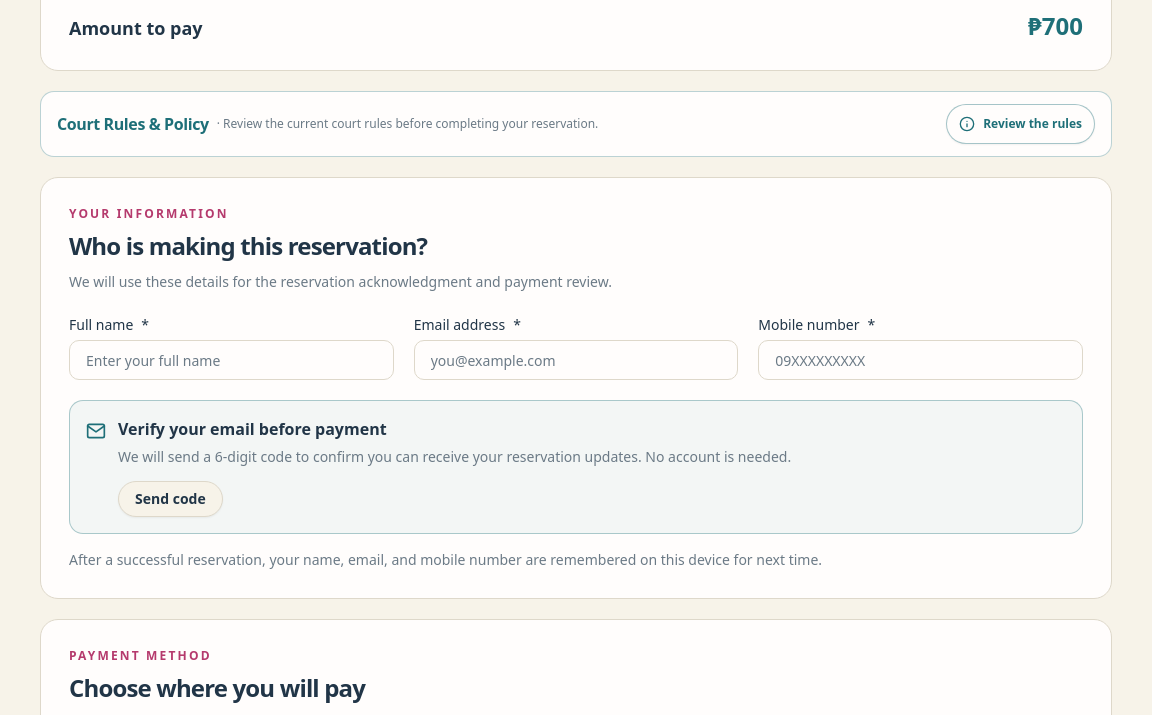
Test: ReservationCheckout › honors the server wait after delivery fails so retrying does not immediately hit the resend limit
The image size is (1152, 715).
(page scrolled)
Step 1. Type "mark@example.com" into the field labelled "Email address" → point(576, 360), box [414,340,738,380]
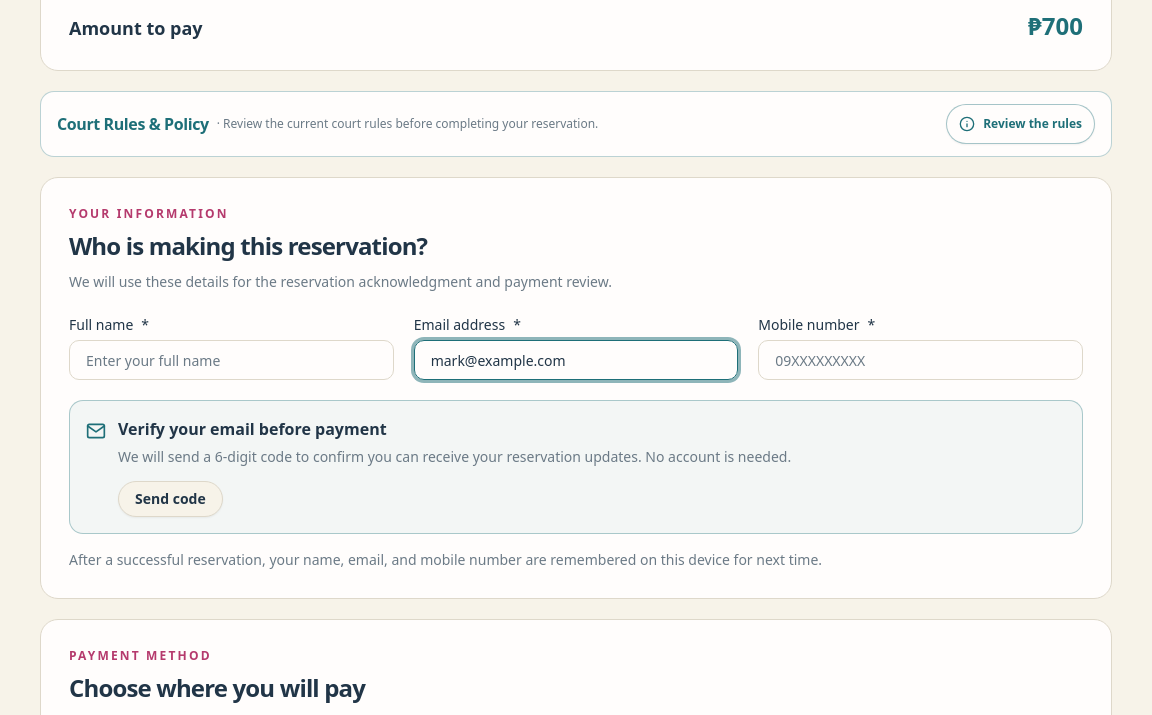
Step 2. Click the button "Send code" → point(170, 499), box [118,481,223,517]
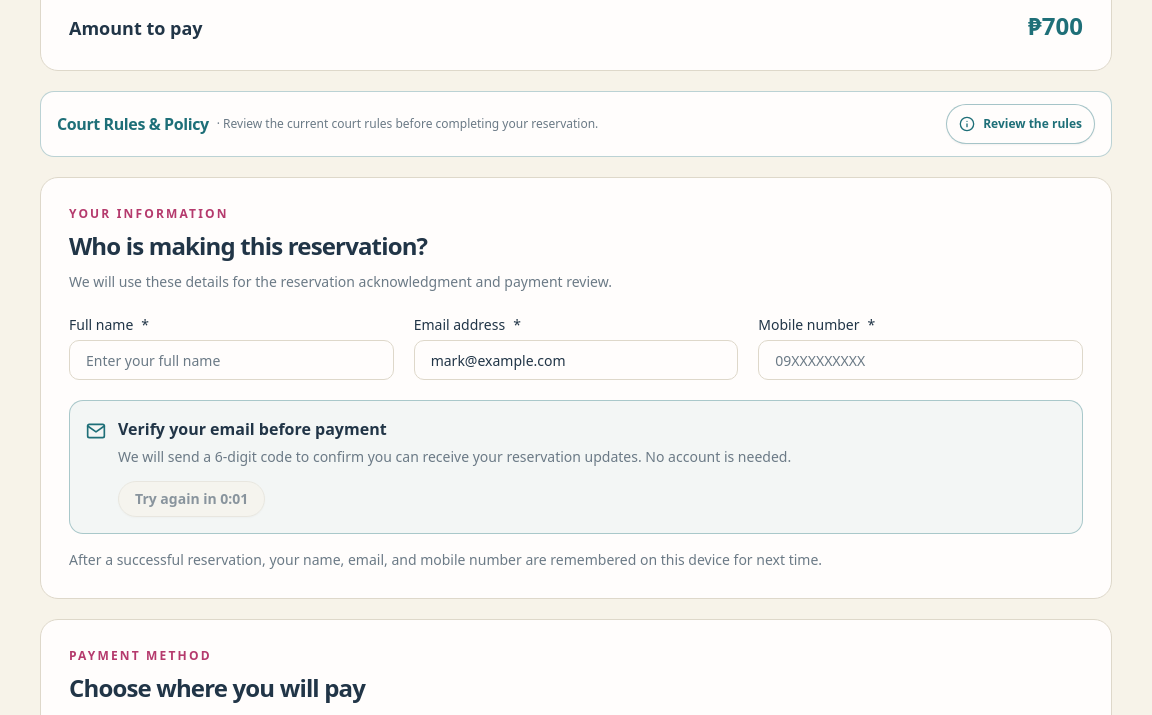
Result: the button "Try again in 0:01" is disabled
Step 3. Click the button "Try again in 0:01" → point(192, 499), box [118,481,265,517]
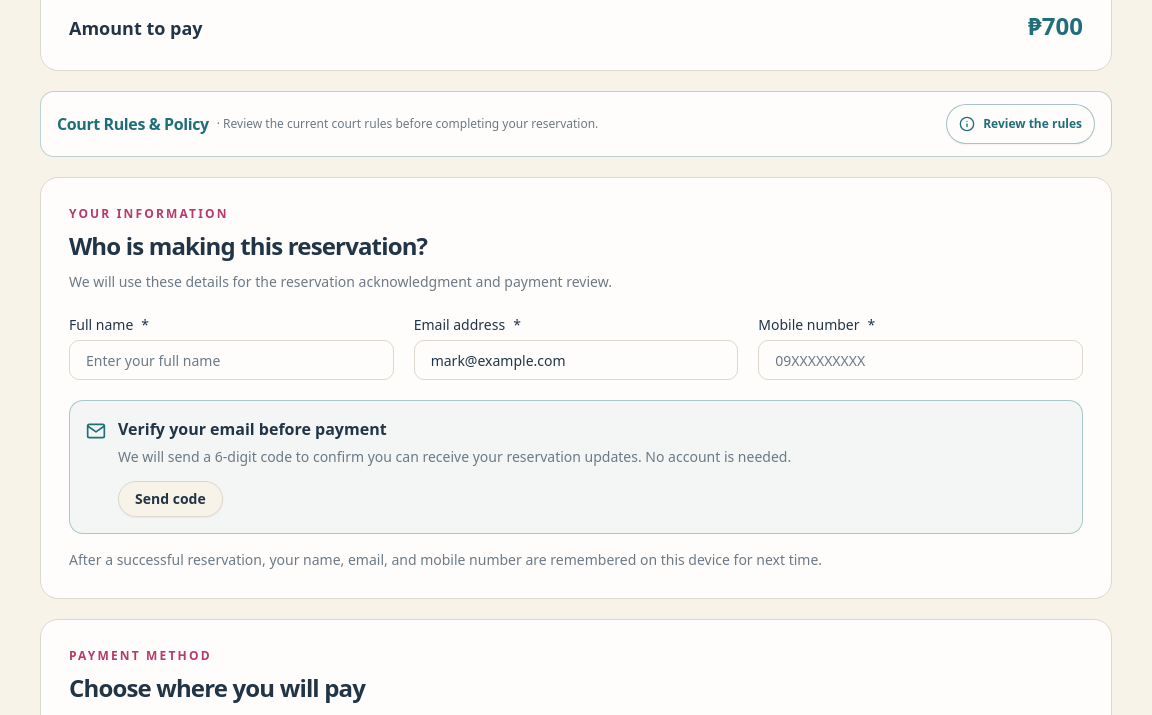
Expected: the field labelled "Verification code" is not shown
Result: the button "Send code" is enabled
Step 4. Click the button "Send code" → point(170, 499), box [118,481,223,517]
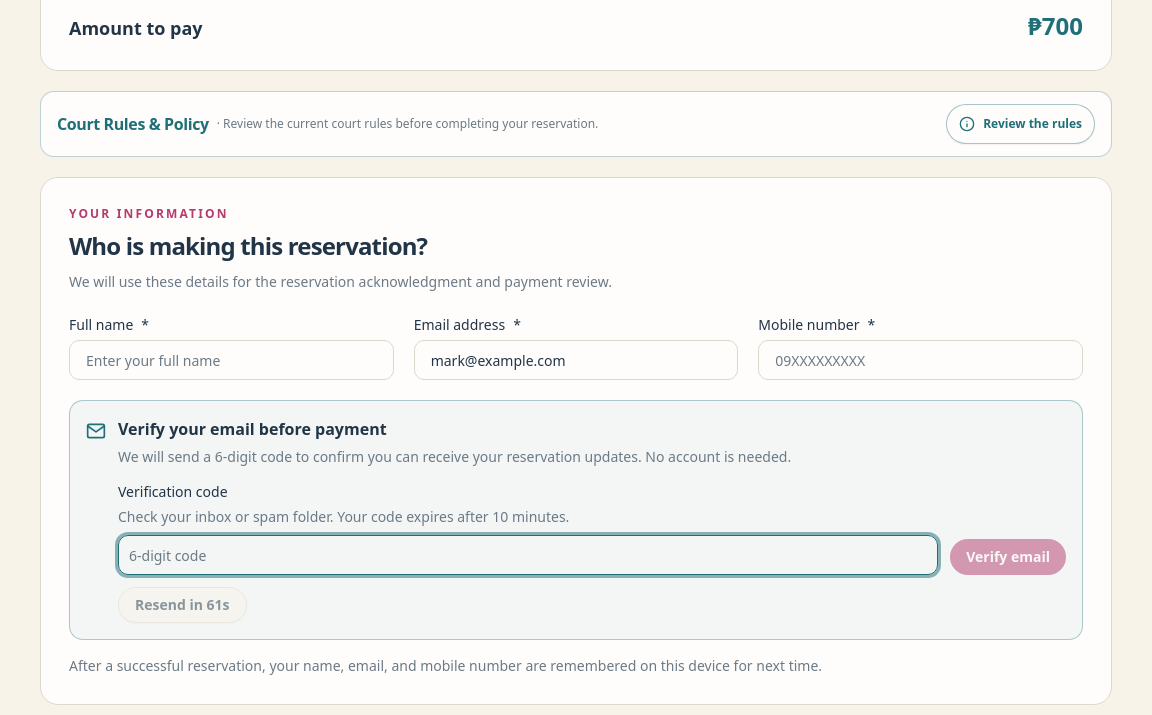
Result: the field labelled "Verification code" is shown at [118,535,938,575]
